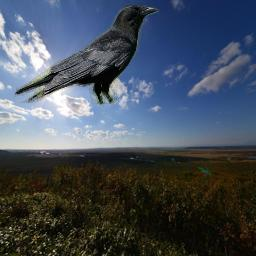Crow: (14, 5, 159, 107)
